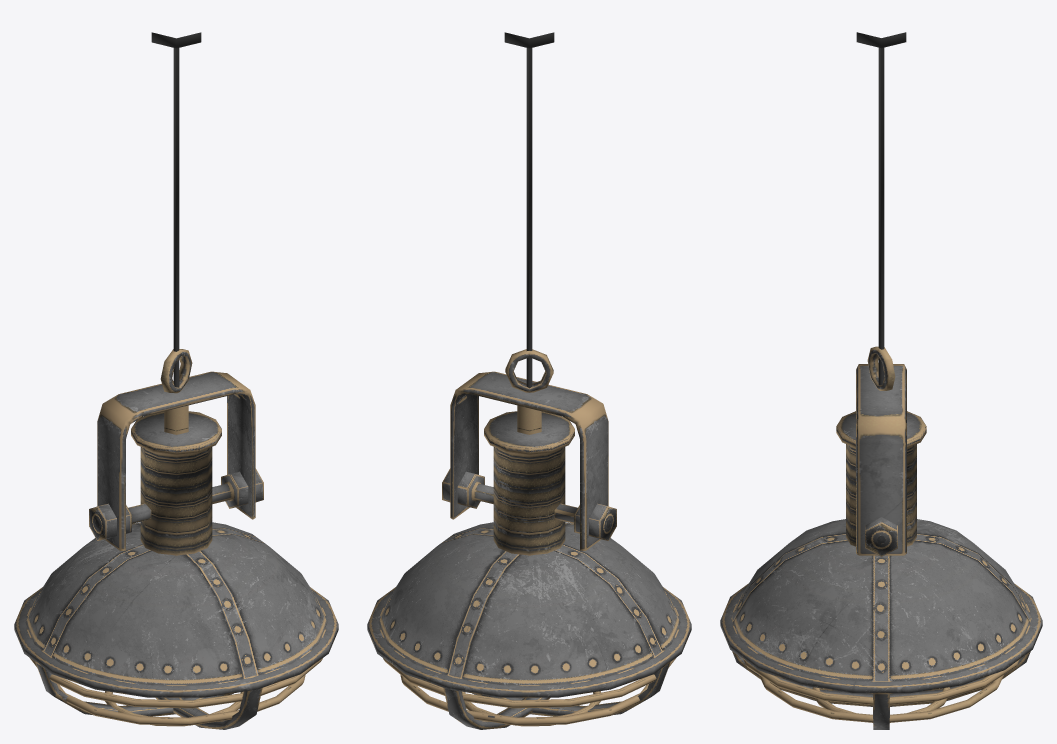
The model's file is industrial_lamp.glb.
3 views of the same model, side by side, from view 1: azimuth 30°, elevation 25°; view 2: azimuth 150°, elevation 25°; view 3: azimuth 270°, elevation 25° (orthographic).
Visible parts, largest first — view 1: SM_Industrial_Roof_Lamp_01; view 2: SM_Industrial_Roof_Lamp_01; view 3: SM_Industrial_Roof_Lamp_01.
Boxes of the visible parts, x1=… form: SM_Industrial_Roof_Lamp_01: x1=14, y1=32, x2=338, y2=729; SM_Industrial_Roof_Lamp_01: x1=367, y1=32, x2=691, y2=729; SM_Industrial_Roof_Lamp_01: x1=720, y1=32, x2=1042, y2=729.
Size of the model in its own units: 87.57 by 207 by 88.92.
Materials: 1 (1 with a texture image).
